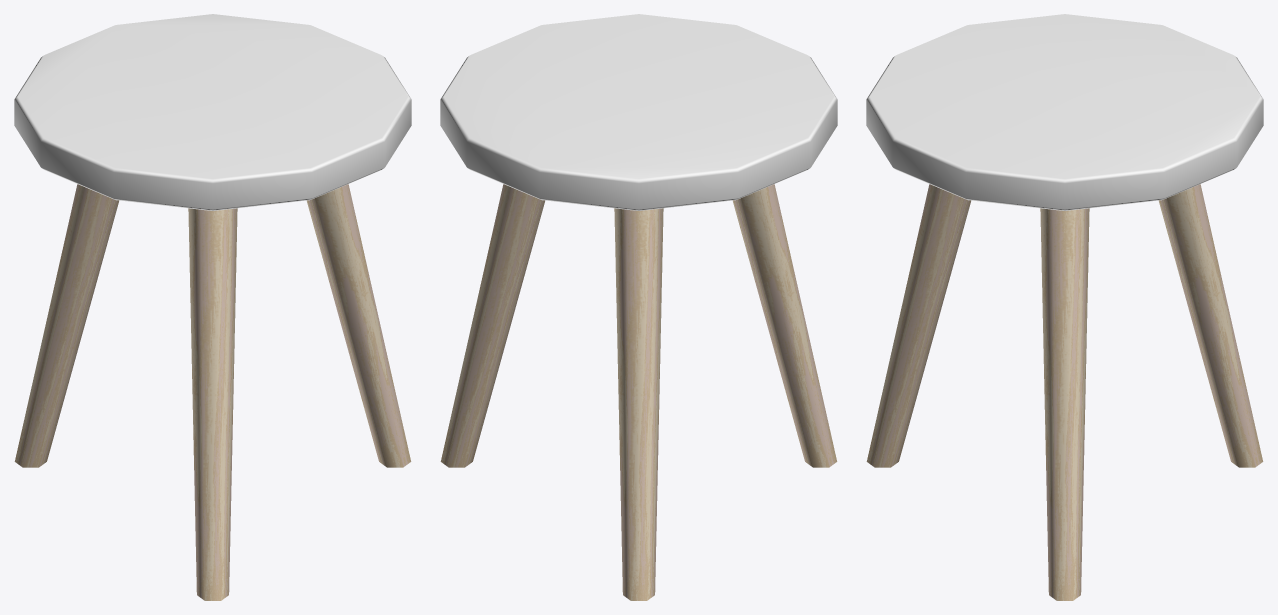
File: coffee_table_017.fbx
3 renders of one model, left to right at view 1: azimuth 30°, elevation 25°; view 2: azimuth 150°, elevation 25°; view 3: azimuth 270°, elevation 25°, orthographic.
Parts seen in each view (by area): view 1: coffee_table_017; view 2: coffee_table_017; view 3: coffee_table_017.
Boxes of the visible parts, x1,y1,x2,y2 form: coffee_table_017: (14, 14, 411, 600); coffee_table_017: (440, 14, 837, 600); coffee_table_017: (866, 14, 1263, 600).
Bounding box in the file's own units: 70.51 × 66.25 × 75.36.
